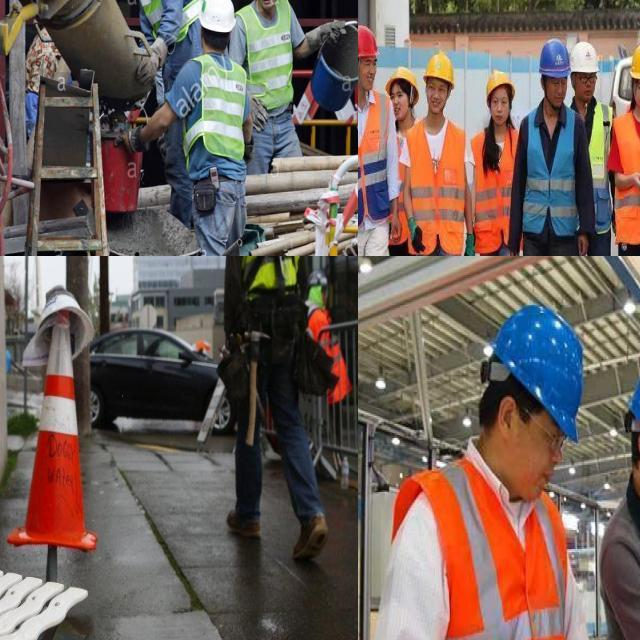No_Ear-Protection: (494, 389, 517, 439), (635, 426, 640, 464)
face_nomask: (499, 405, 565, 506), (250, 0, 282, 7)
glasses: (577, 68, 599, 86)
hand_glove: (308, 16, 351, 53), (112, 129, 147, 157), (408, 215, 425, 256), (461, 231, 478, 256)
hand_noglove: (388, 203, 404, 245), (629, 166, 640, 194), (576, 233, 588, 256)
head_helmet: (494, 306, 591, 436), (540, 40, 571, 79), (569, 39, 599, 78), (423, 52, 455, 86), (385, 68, 418, 99), (204, 0, 235, 29), (485, 73, 516, 101), (358, 25, 378, 57), (628, 40, 640, 80)
person: (401, 291, 594, 640), (227, 256, 320, 543), (186, 0, 242, 256), (523, 38, 580, 256), (410, 49, 467, 256), (239, 0, 306, 164), (602, 355, 640, 640), (570, 32, 615, 256), (358, 22, 399, 256), (475, 61, 520, 256), (383, 67, 428, 256), (115, 0, 199, 79), (613, 38, 640, 256)
shoes: (286, 507, 331, 568), (224, 497, 264, 547)
vest: (403, 461, 573, 640), (408, 122, 472, 248), (527, 114, 584, 246), (192, 59, 248, 162), (473, 131, 524, 242), (240, 9, 296, 100), (358, 100, 399, 217), (577, 101, 615, 222), (309, 315, 348, 394), (617, 115, 640, 238), (136, 0, 205, 39), (392, 120, 412, 236), (233, 256, 300, 284)
